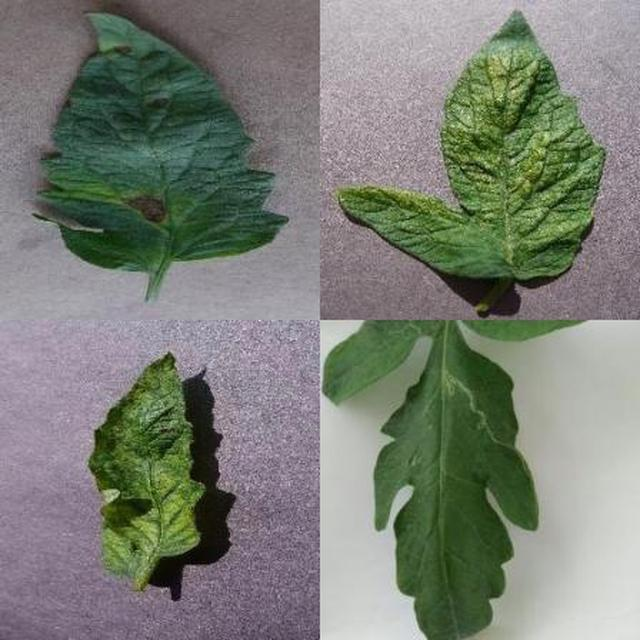Early Blight Leaf: (173, 200, 640, 640)
